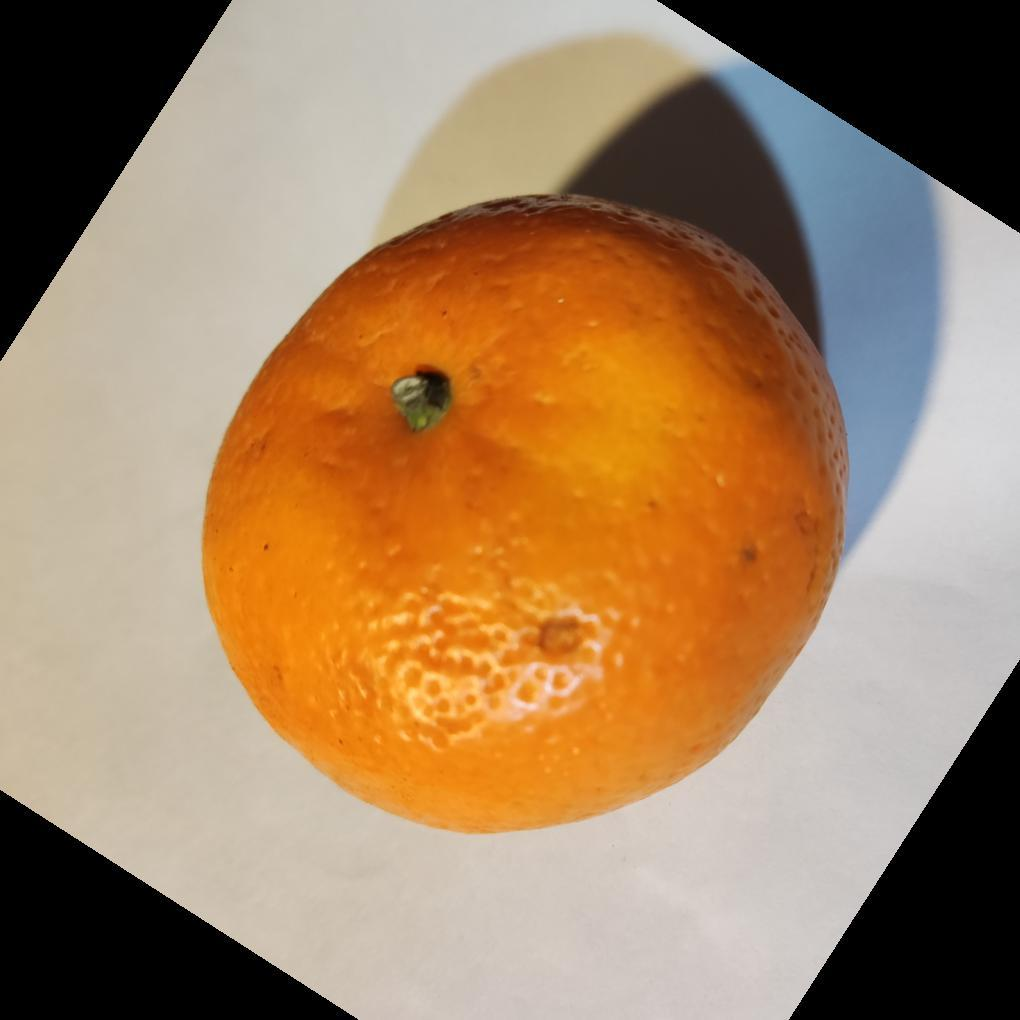FreshGuava: (199, 196, 851, 840)
